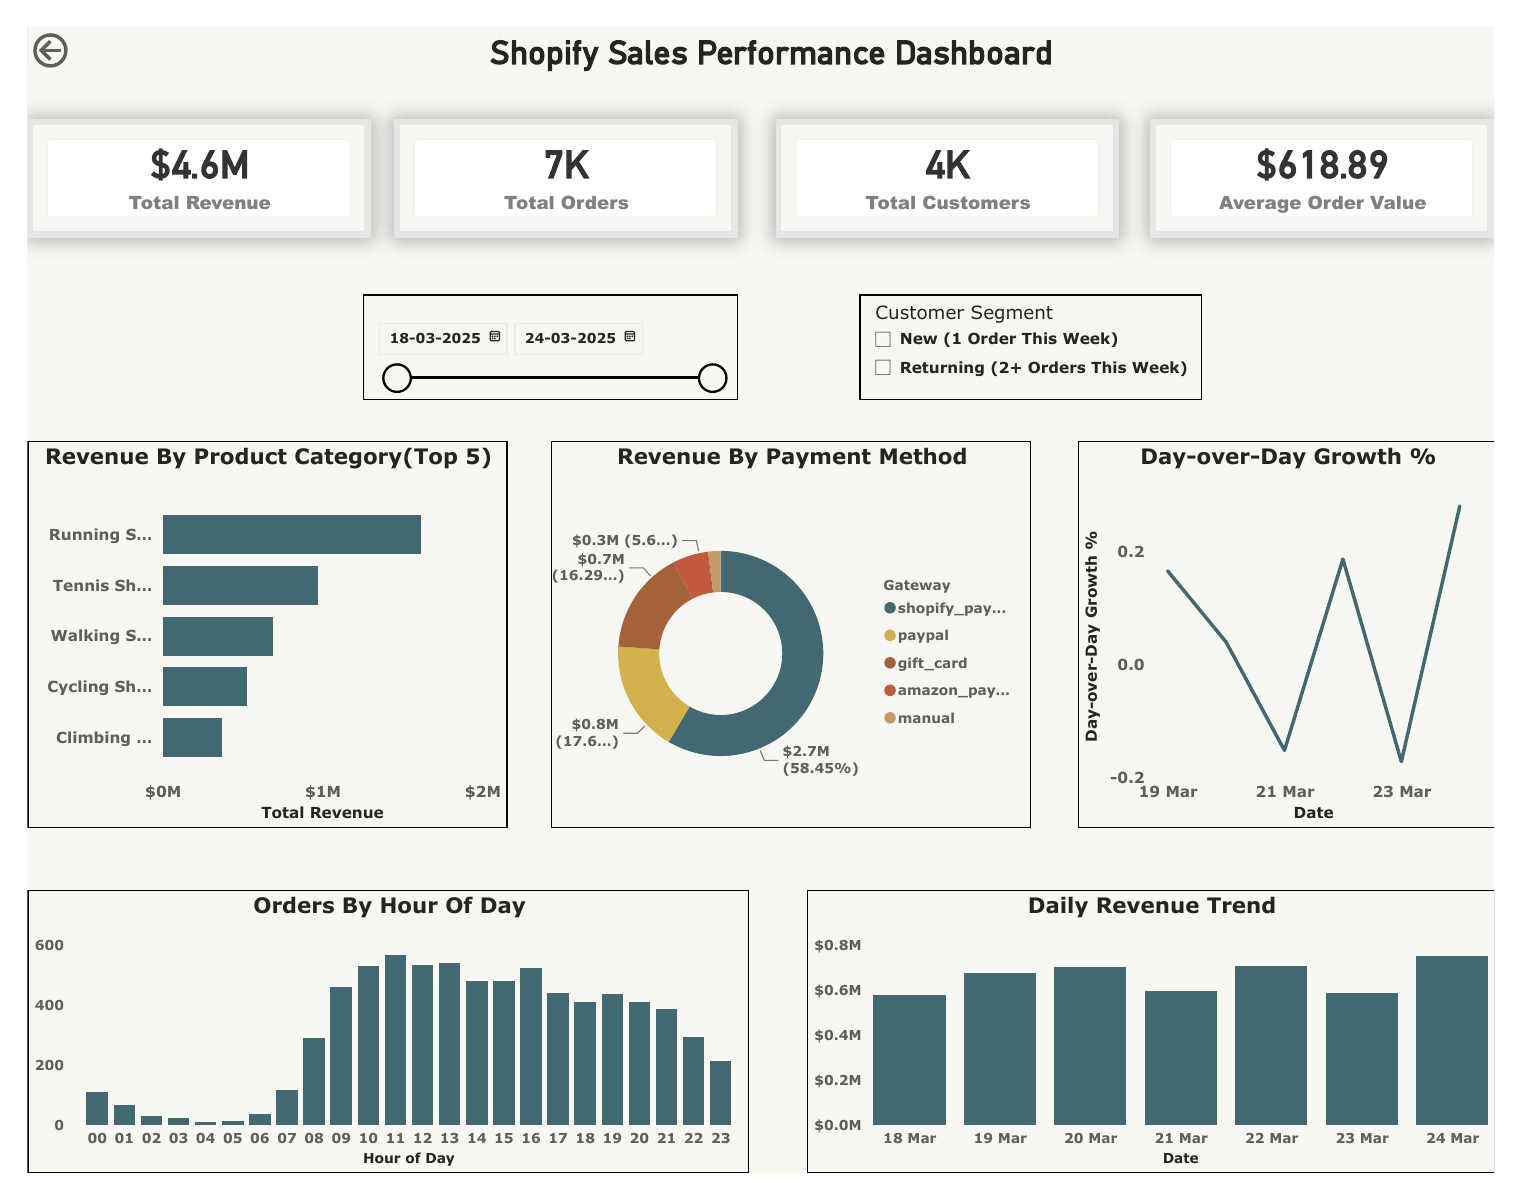

Layout of this report page (visuals, bound fields, positions):
{"tool":"powerbi","page":{"name":"Sales Performance","canvas":[1280,1000],"ordinal":0},"visuals":[{"type":"cardVisual","fields":{"Data":["_Measures (2).Total Revenue"]},"box":[0,80.1,299.9,104],"z":0},{"type":"cardVisual","fields":{"Data":["_Measures (2).Total Orders"]},"box":[320.4,80.1,299.9,104],"z":1000},{"type":"cardVisual","fields":{"Data":["_Measures (2).Total Customers"]},"box":[652.7,80.1,299.9,104],"z":2000},{"type":"cardVisual","fields":{"Data":["_Measures (2).Average Order Value"]},"box":[979.9,80.1,299.9,104],"z":3000},{"type":"clusteredColumnChart","title":"Daily Revenue Trend","fields":{"Category":["Dim_Date.Date"],"Y":["_Measures (2).Total Revenue"]},"box":[680,753.2,601,247],"z":4000},{"type":"clusteredColumnChart","title":"Orders By Hour Of Day","fields":{"Category":["Fact_Sales.Hour Text"],"Y":["_Measures (2).Total Orders"]},"box":[0,753.2,630,247],"z":5000},{"type":"actionButton","box":[0,0,100,40],"z":6000},{"type":"barChart","title":"Revenue By Product Category(Top 5)","fields":{"Category":["Fact_Sales.Product Type"],"Y":["_Measures (2).Total Revenue"]},"box":[0,361.3,419.2,337.4],"z":7000},{"type":"donutChart","title":"Revenue By Payment Method","fields":{"Category":["Fact_Sales.Gateway"],"Y":["_Measures (2).Total Revenue"]},"box":[456.7,361.3,419.2,337.4],"z":8000},{"type":"textbox","box":[150,0,1006.7,50],"z":9000},{"type":"slicer","fields":{"Values":["Dim_Date.Date"]},"box":[293.1,233.5,327.2,92],"z":10000},{"type":"slicer","title":"C","fields":{"Values":["Dim_Customer.Customer Segment"]},"box":[726,233.5,299.1,92],"z":11000},{"type":"lineChart","title":"Day-over-Day Growth % ","fields":{"Category":["Dim_Date.Date"],"Y":["_Measures (2).Day-over-Day Growth %"]},"box":[916.8,361.3,364.7,337.4],"z":12000}]}

Visuals, with their boxes in screenshot pixels (x1, y1, x2, y2), scaled from the page's 1280x1000 canvas onto the 1522x1201 screenshot:
cardVisual - _Measures (2).Total Revenue: {"x1": 0, "y1": 96, "x2": 357, "y2": 221}
cardVisual - _Measures (2).Total Orders: {"x1": 381, "y1": 96, "x2": 738, "y2": 221}
cardVisual - _Measures (2).Total Customers: {"x1": 776, "y1": 96, "x2": 1133, "y2": 221}
cardVisual - _Measures (2).Average Order Value: {"x1": 1165, "y1": 96, "x2": 1521, "y2": 221}
"Daily Revenue Trend" clusteredColumnChart: {"x1": 809, "y1": 905, "x2": 1521, "y2": 1200}
"Orders By Hour Of Day" clusteredColumnChart: {"x1": 0, "y1": 905, "x2": 749, "y2": 1200}
actionButton: {"x1": 0, "y1": 0, "x2": 119, "y2": 48}
"Revenue By Product Category(Top 5)" barChart: {"x1": 0, "y1": 434, "x2": 498, "y2": 839}
"Revenue By Payment Method" donutChart: {"x1": 543, "y1": 434, "x2": 1041, "y2": 839}
textbox: {"x1": 178, "y1": 0, "x2": 1375, "y2": 60}
slicer - Dim_Date.Date: {"x1": 349, "y1": 280, "x2": 738, "y2": 391}
"C" slicer: {"x1": 863, "y1": 280, "x2": 1219, "y2": 391}
"Day-over-Day Growth % " lineChart: {"x1": 1090, "y1": 434, "x2": 1521, "y2": 839}
